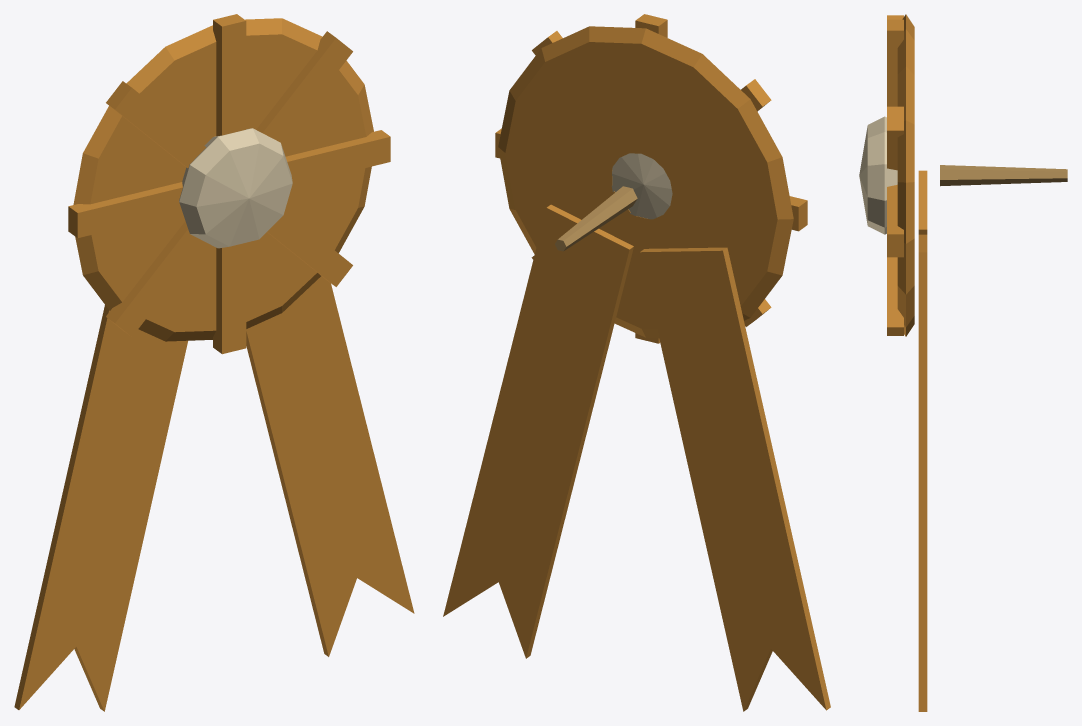
Rendered from Prop_YTM_RibbonPin.glb.
3 views of the same model, side by side, from view 1: azimuth 30°, elevation 25°; view 2: azimuth 150°, elevation 25°; view 3: azimuth 270°, elevation 25° (orthographic). The views are drawn at different scales.
Visible parts, largest first — view 1: Prop_YTM_RibbonPin; view 2: Prop_YTM_RibbonPin; view 3: Prop_YTM_RibbonPin.
Part boxes in pixels (<box>): Prop_YTM_RibbonPin: <box>14,14,414,711</box>; Prop_YTM_RibbonPin: <box>443,14,830,711</box>; Prop_YTM_RibbonPin: <box>859,14,1067,711</box>.
Size of the model in its own units: 0.0986 by 0.1604 by 0.049.
